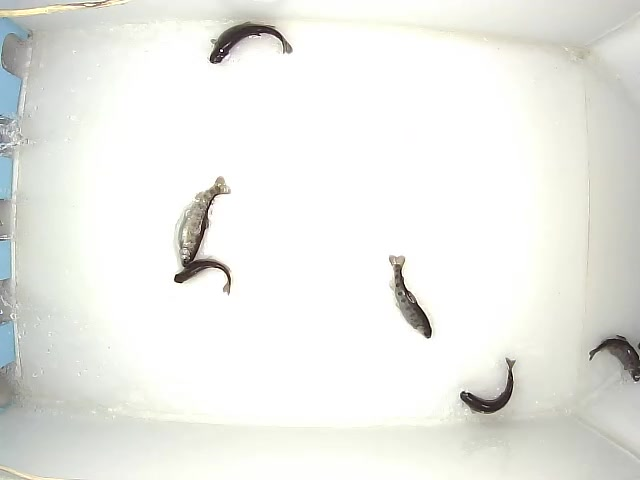fish: (174, 174, 232, 269), (207, 19, 294, 66), (387, 254, 432, 340), (459, 356, 517, 416), (587, 334, 640, 384), (174, 254, 232, 296)
